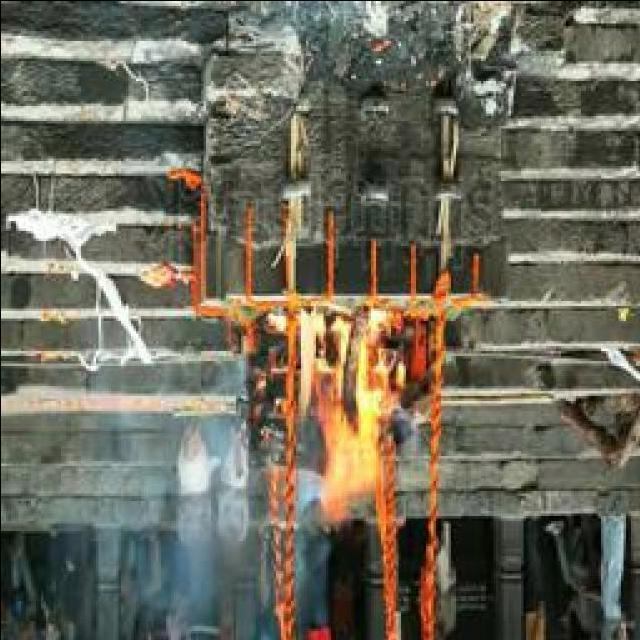Fire: (289, 301, 401, 514)
